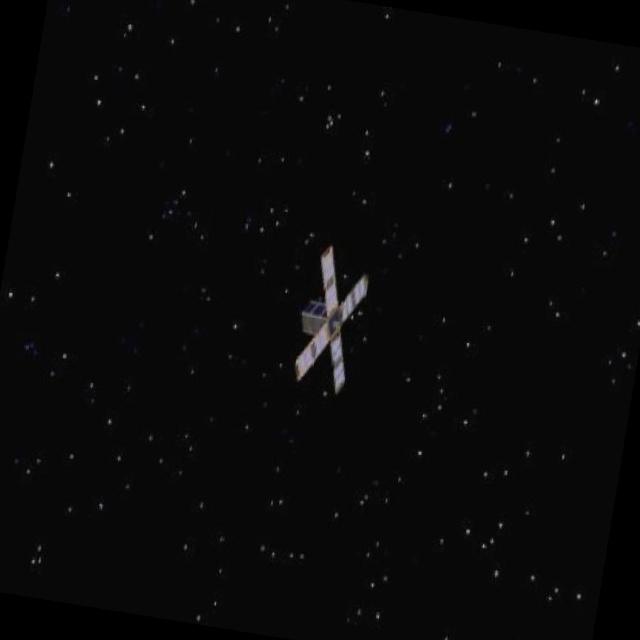medium_debris: (275, 234, 388, 402)
